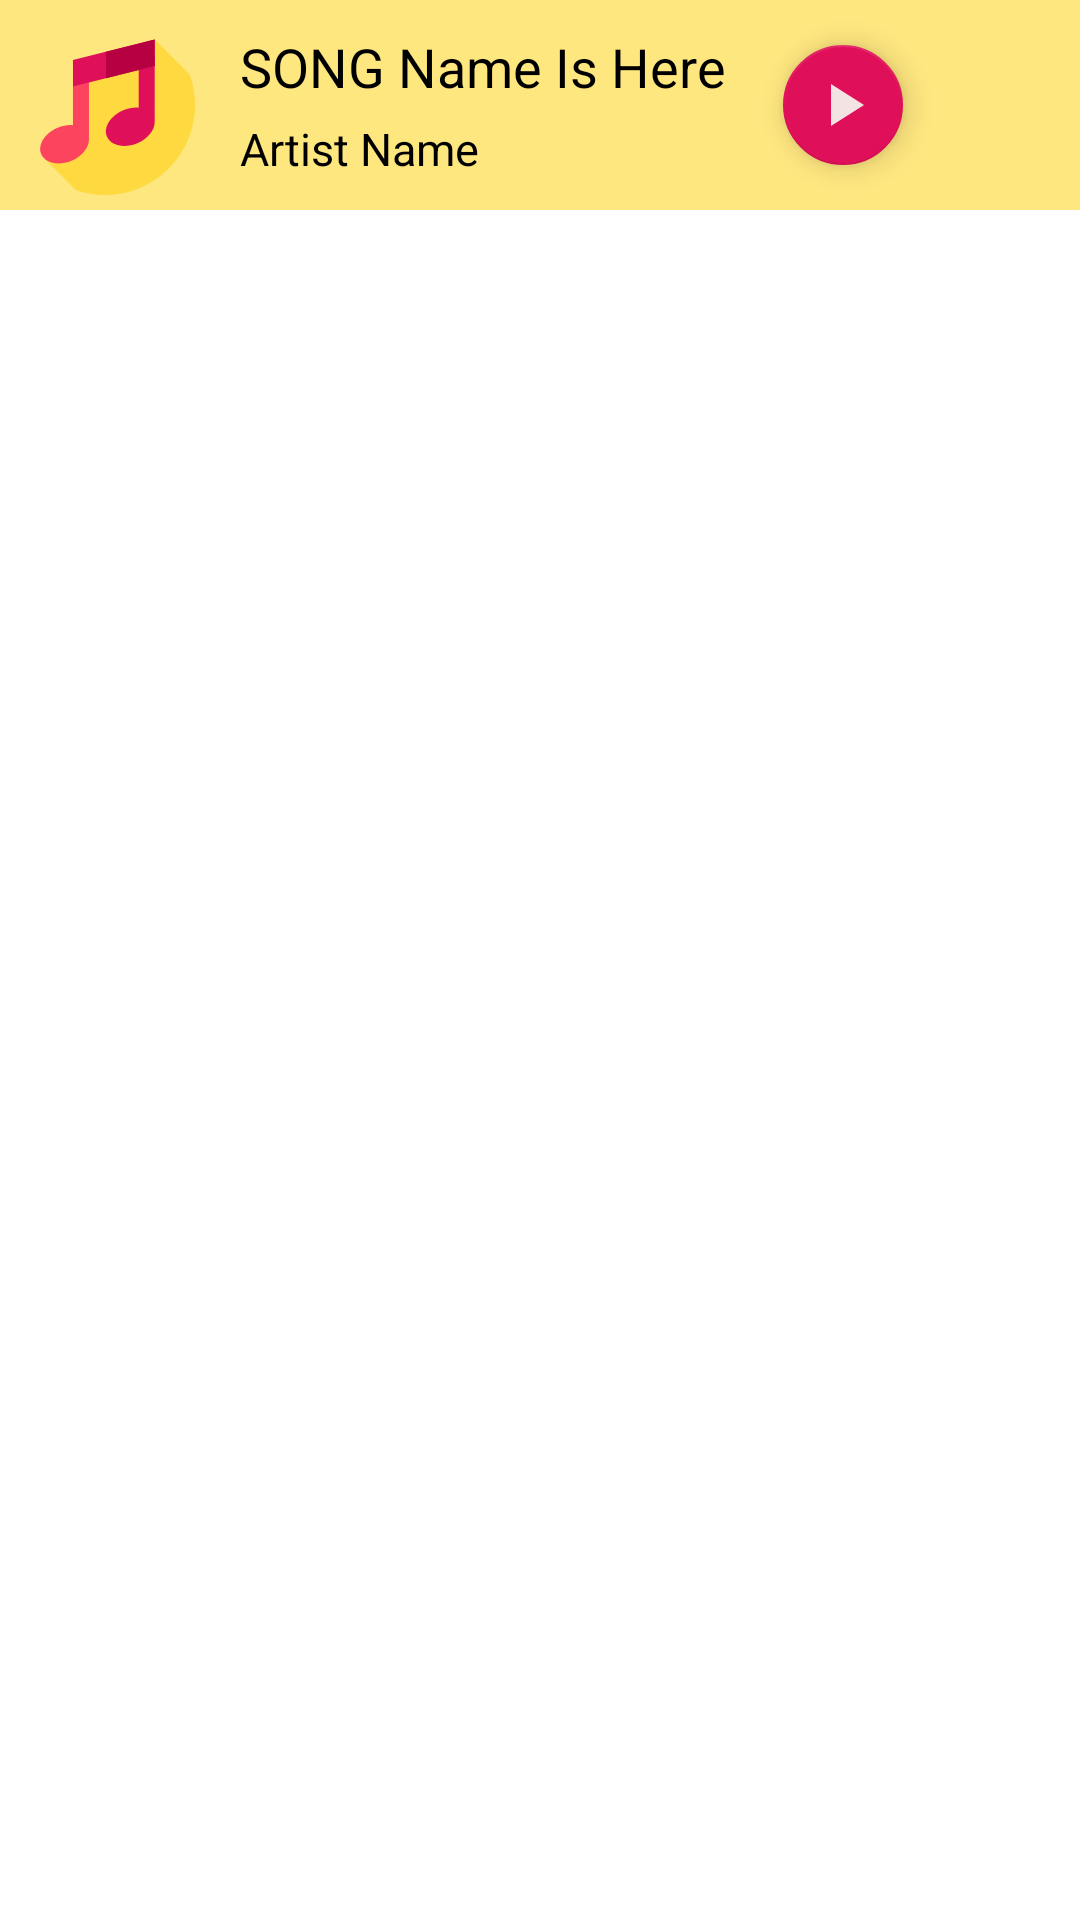

Screen size 1080px×1920px. Icon name, then its center in pixels as (x,y):
play arrow: (843,105)
